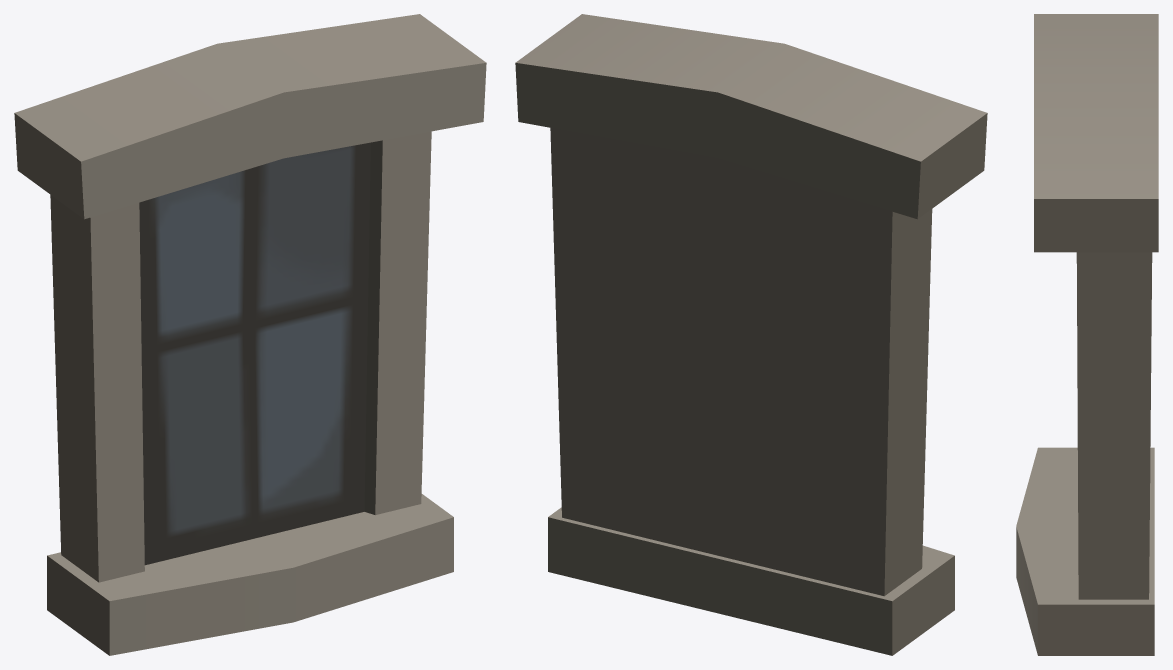
Rendered from Window_A02.fbx.
3 views of the same model, side by side, from view 1: azimuth 30°, elevation 25°; view 2: azimuth 150°, elevation 25°; view 3: azimuth 270°, elevation 25° (orthographic). The views are drawn at different scales.
Visible parts, largest first — view 1: Window_A02; view 2: Window_A02; view 3: Window_A02.
Boxes of the visible parts, bbox=[...] form: Window_A02: bbox=[14, 14, 486, 655]; Window_A02: bbox=[515, 14, 987, 655]; Window_A02: bbox=[1016, 14, 1158, 655].
Size of the model in its own units: 158 by 195 by 51.42.
